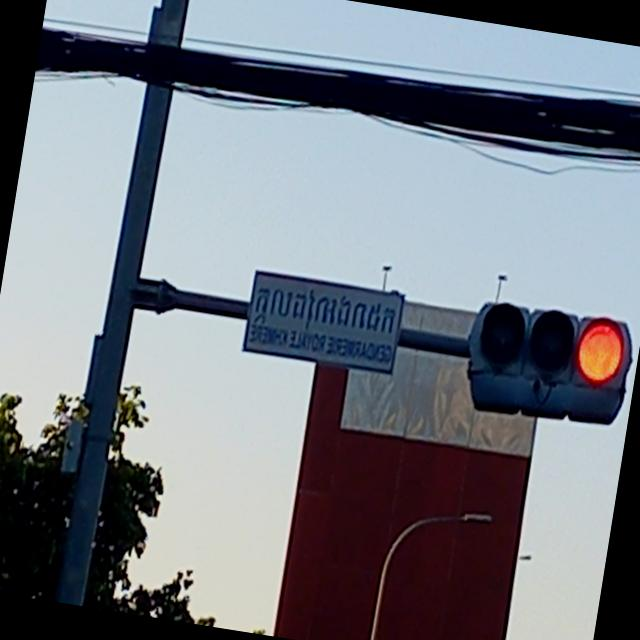Yolov11_80vkh: (248, 281, 398, 343)
